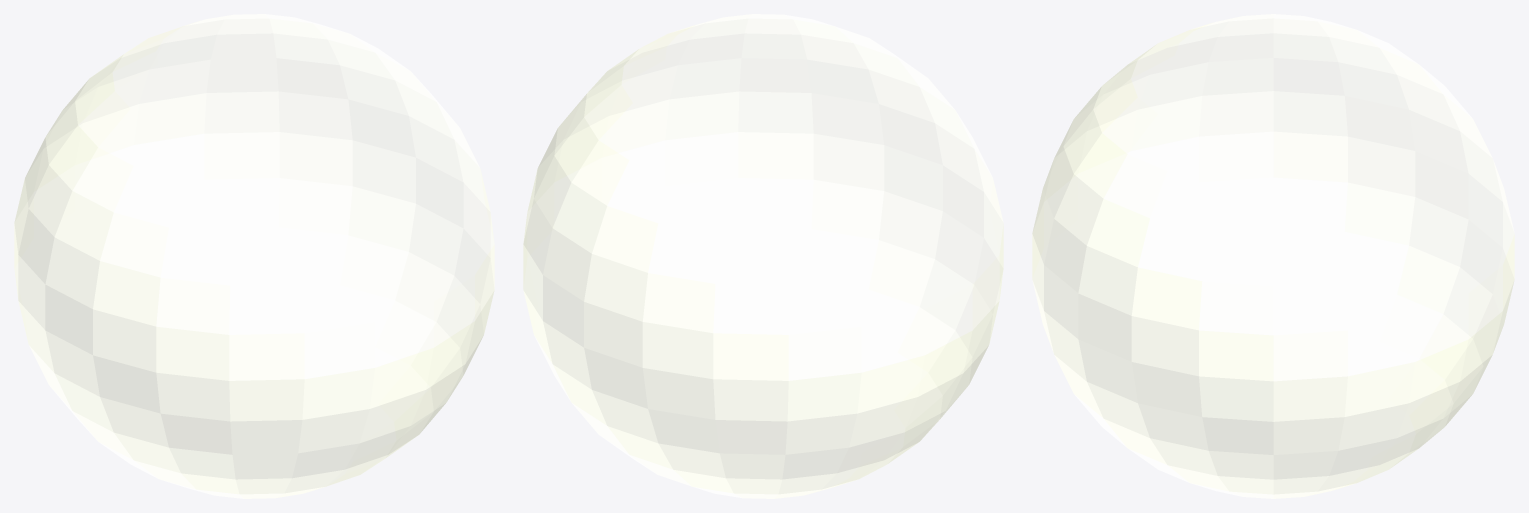
File: Balloon_GlowingTrans.glb
3 views of the same model, side by side, from view 1: azimuth 30°, elevation 25°; view 2: azimuth 150°, elevation 25°; view 3: azimuth 270°, elevation 25° (orthographic).
Parts seen in each view (by area): view 1: Sphere.00222; view 2: Sphere.00222; view 3: Sphere.00222.
Boxes of the visible parts, box(x1,y1,x2,y2) form: Sphere.00222: box(14, 14, 494, 498); Sphere.00222: box(523, 14, 1003, 498); Sphere.00222: box(1032, 14, 1514, 498).
Size of what is drawn, in the model's own units: 1.99 by 2 by 1.99.
